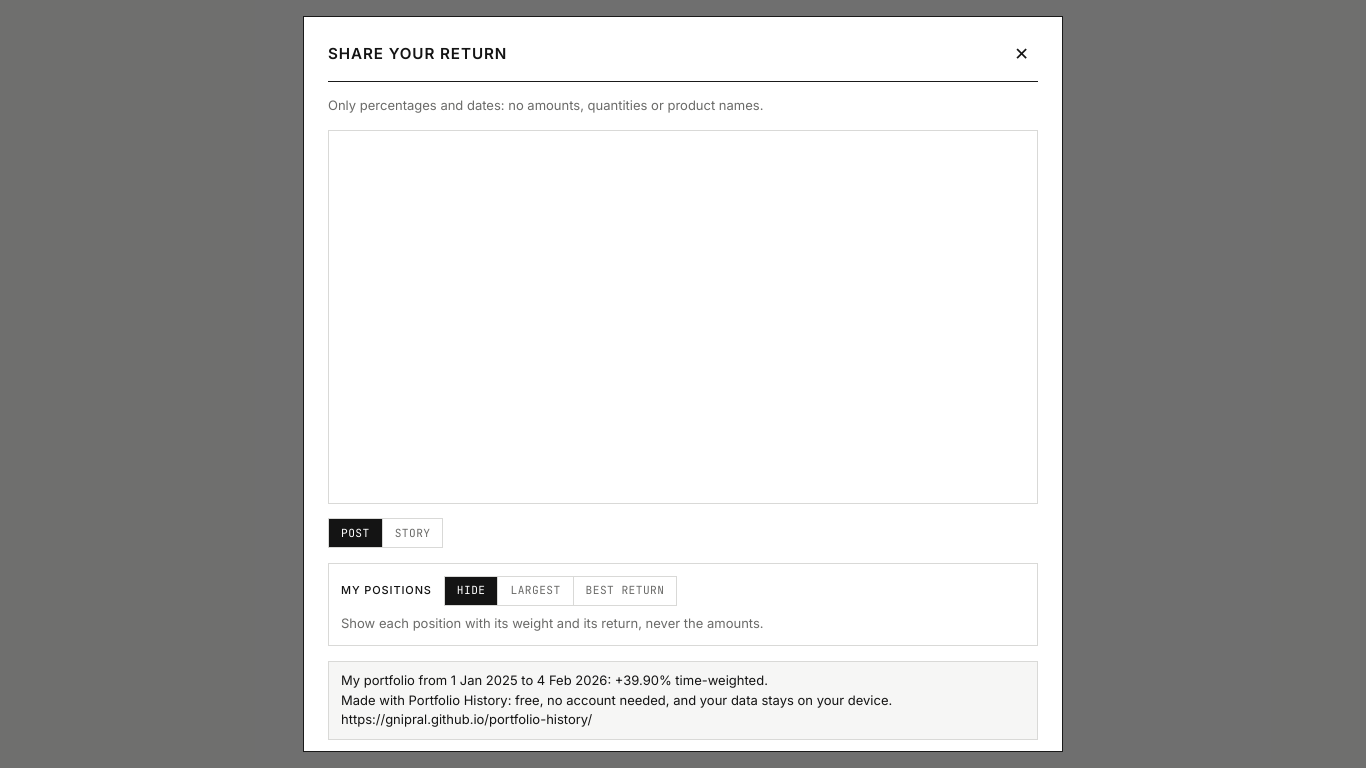
ShareDialog › shows the positions only when asked
expect the text "no amounts, quantities or product names" is shown: met, box top-left (328, 97), bottom-right (763, 113)
Click the button "Largest" at (536, 591), box top-left (498, 577), bottom-right (574, 605)
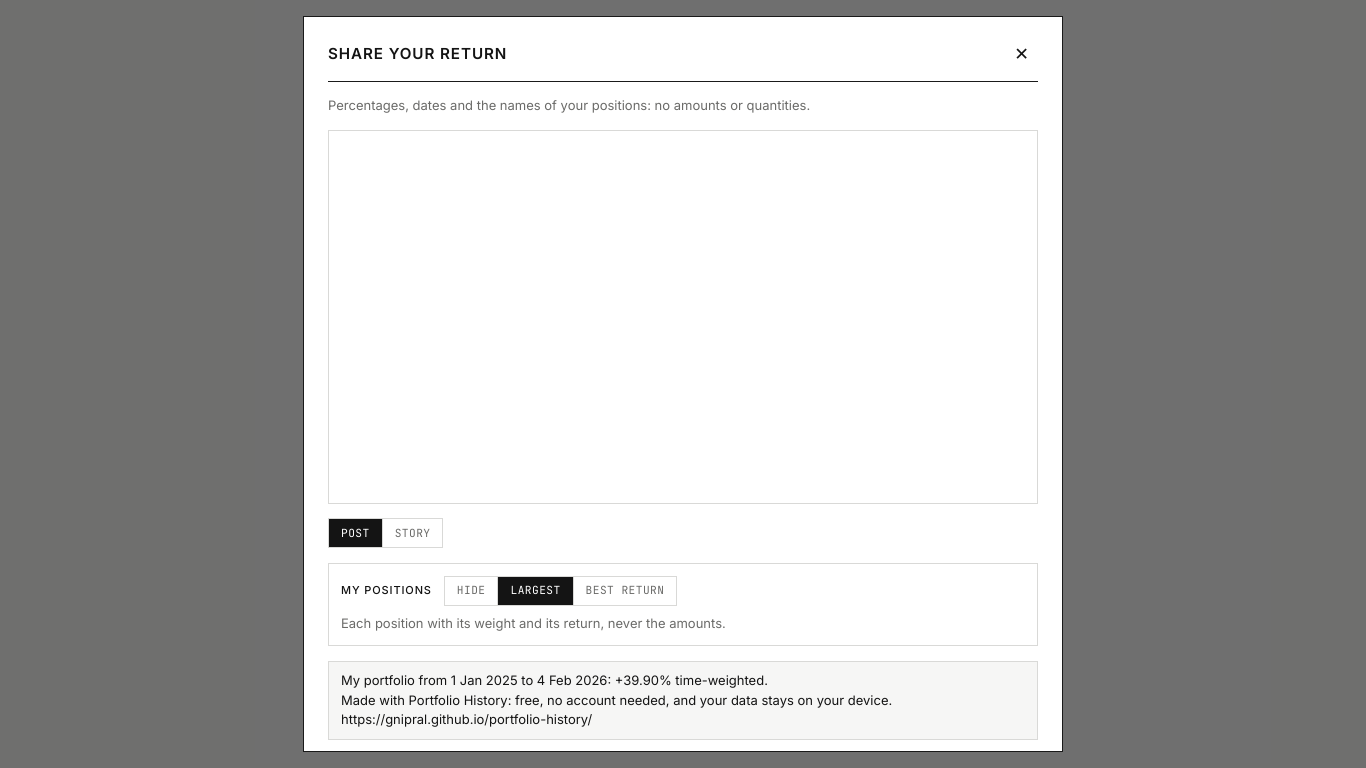
expect the text "the names of your positions: no amounts or quantities" is shown: met, box top-left (328, 97), bottom-right (810, 113)
